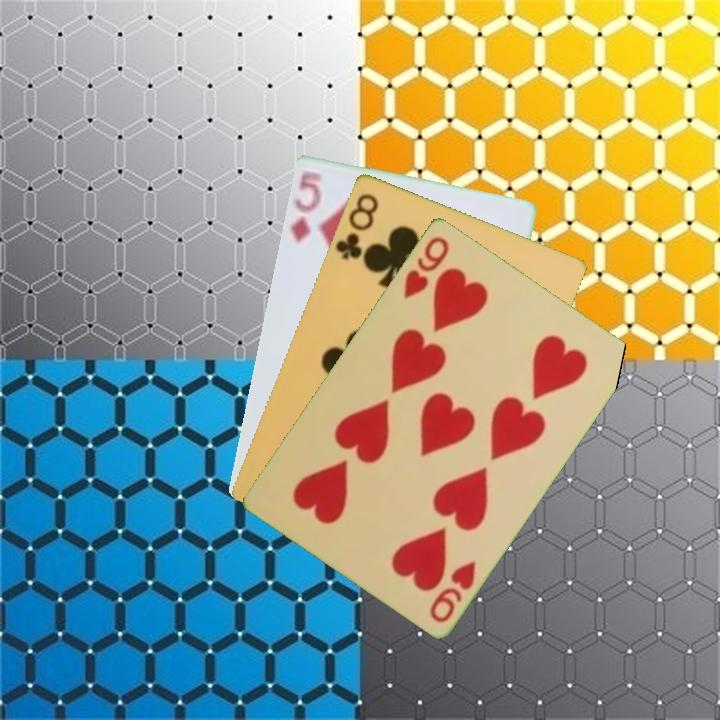5d: (287, 166, 324, 246)
8c: (331, 189, 381, 262)
9h: (425, 556, 479, 625), (400, 232, 452, 301)
